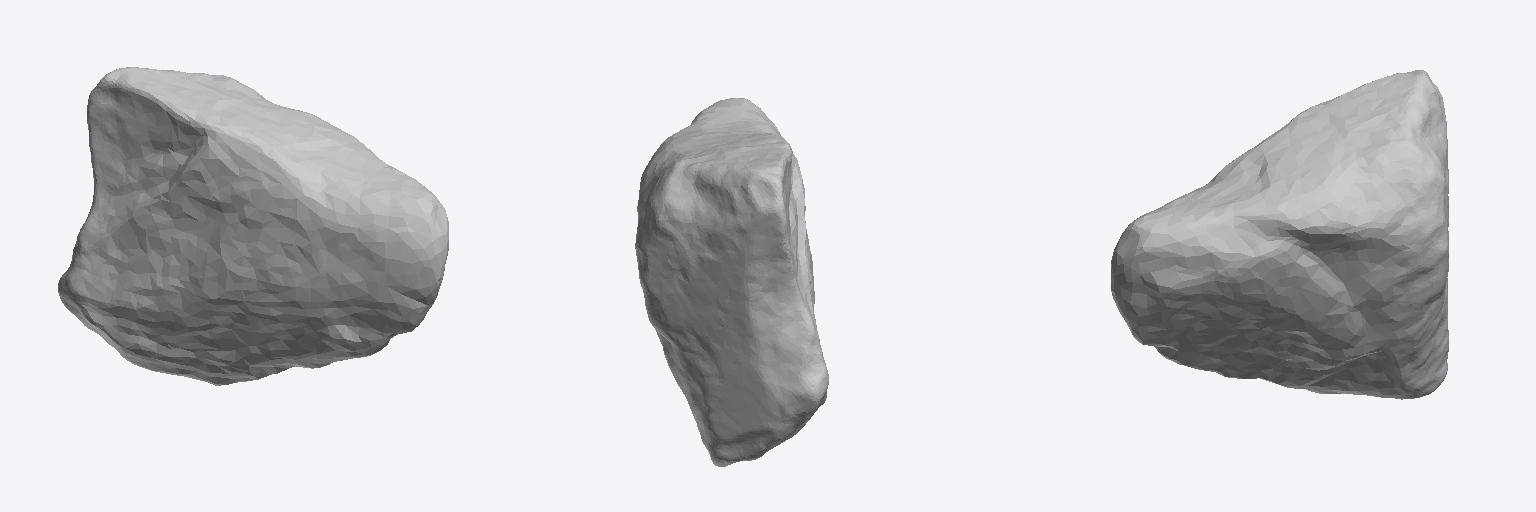
Rendered from FinalOrientedMesh_Spec2.obj.
The picture shows the model from 3 angles: view 1: azimuth 30°, elevation 25°; view 2: azimuth 150°, elevation 25°; view 3: azimuth 270°, elevation 25°; orthographic projection.
Bounding box in the file's own units: 0.6659 × 0.7691 × 0.7806.